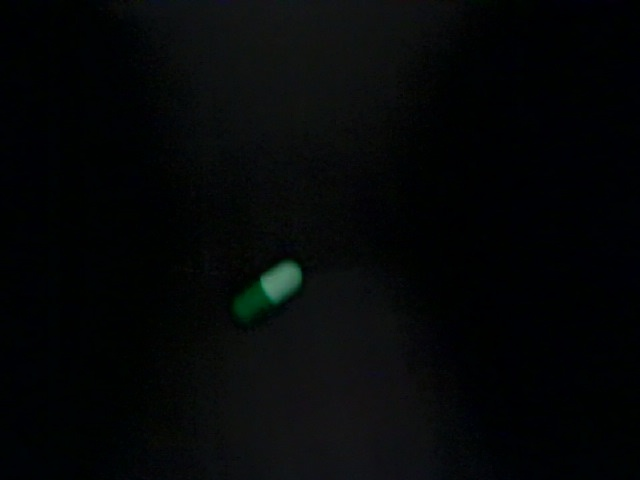YHLJ: (222, 1, 475, 91)
